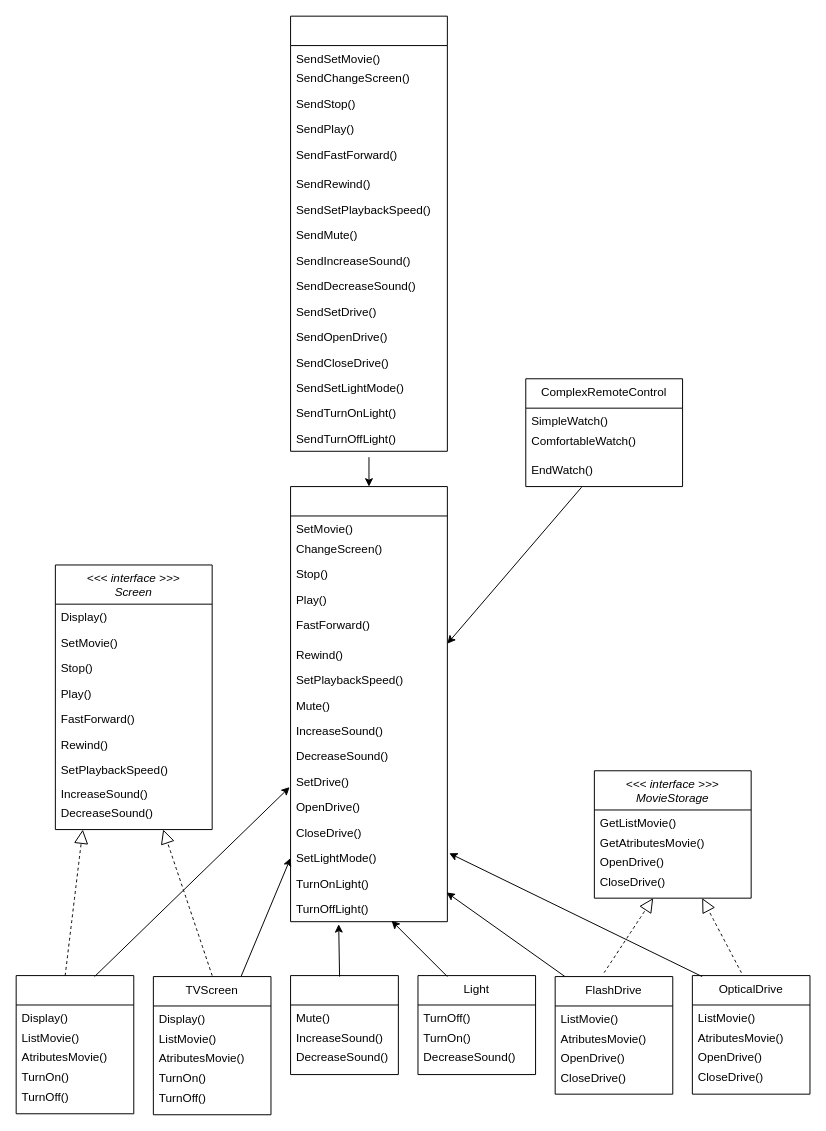
The diagram is 826 pixels wide and 1131 high, and some of its shapes have lost their labels. The box of each missing label's shape, as (x1, y1, x2, y2) in pixels:
Projector: (15, 975, 134, 1114)
Receiver: (290, 486, 447, 922)
RemoteControl: (290, 15, 447, 451)
Speackers: (290, 975, 398, 1075)
